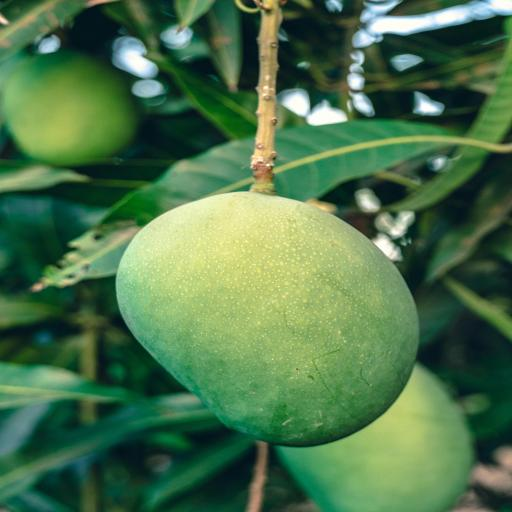Mango-Detection: (37, 148, 478, 466)
